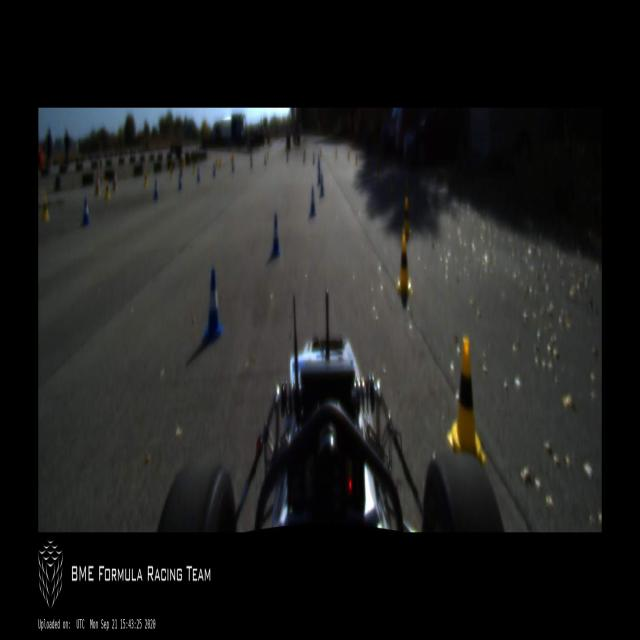blue_cone: (202, 269, 224, 343), (270, 216, 280, 258), (80, 197, 90, 226), (310, 187, 316, 216), (153, 178, 159, 200), (320, 175, 324, 197), (178, 172, 182, 191)
yellow_cone: (447, 337, 487, 466), (396, 231, 412, 292), (403, 200, 411, 235), (41, 195, 50, 223), (104, 182, 110, 200), (143, 171, 149, 186), (169, 166, 173, 180)
